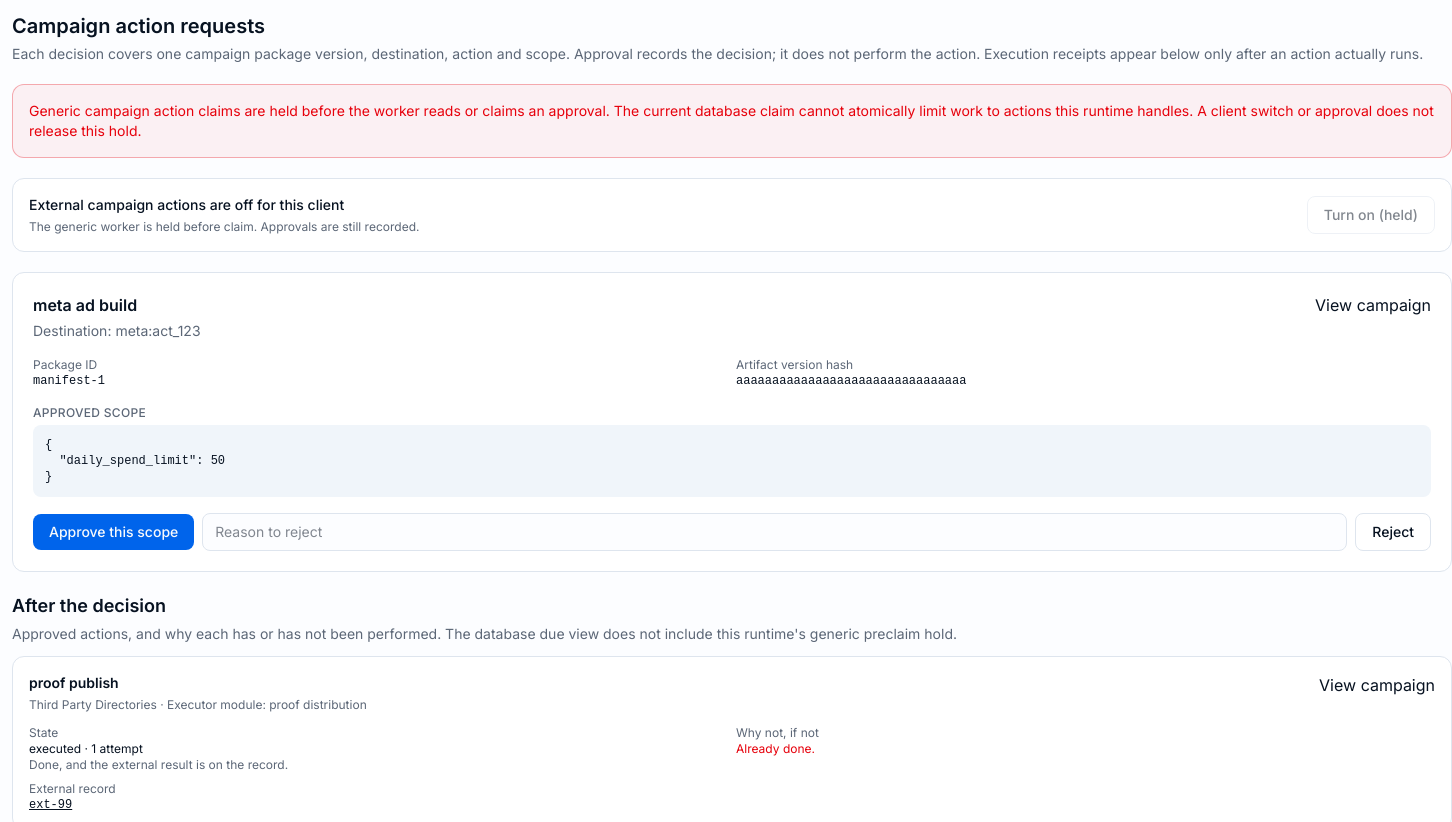
Test: shows the exact destination and scope before a human approves
Expected: the text "meta:act_123" is shown, top-left (115, 322), bottom-right (201, 339)
Expected: the text "{ \"daily_spend_limit\": 50 }" is shown, top-left (33, 425), bottom-right (1431, 497)
Click the button "Approve this scope": [114, 532] box top-left (33, 514), bottom-right (194, 550)
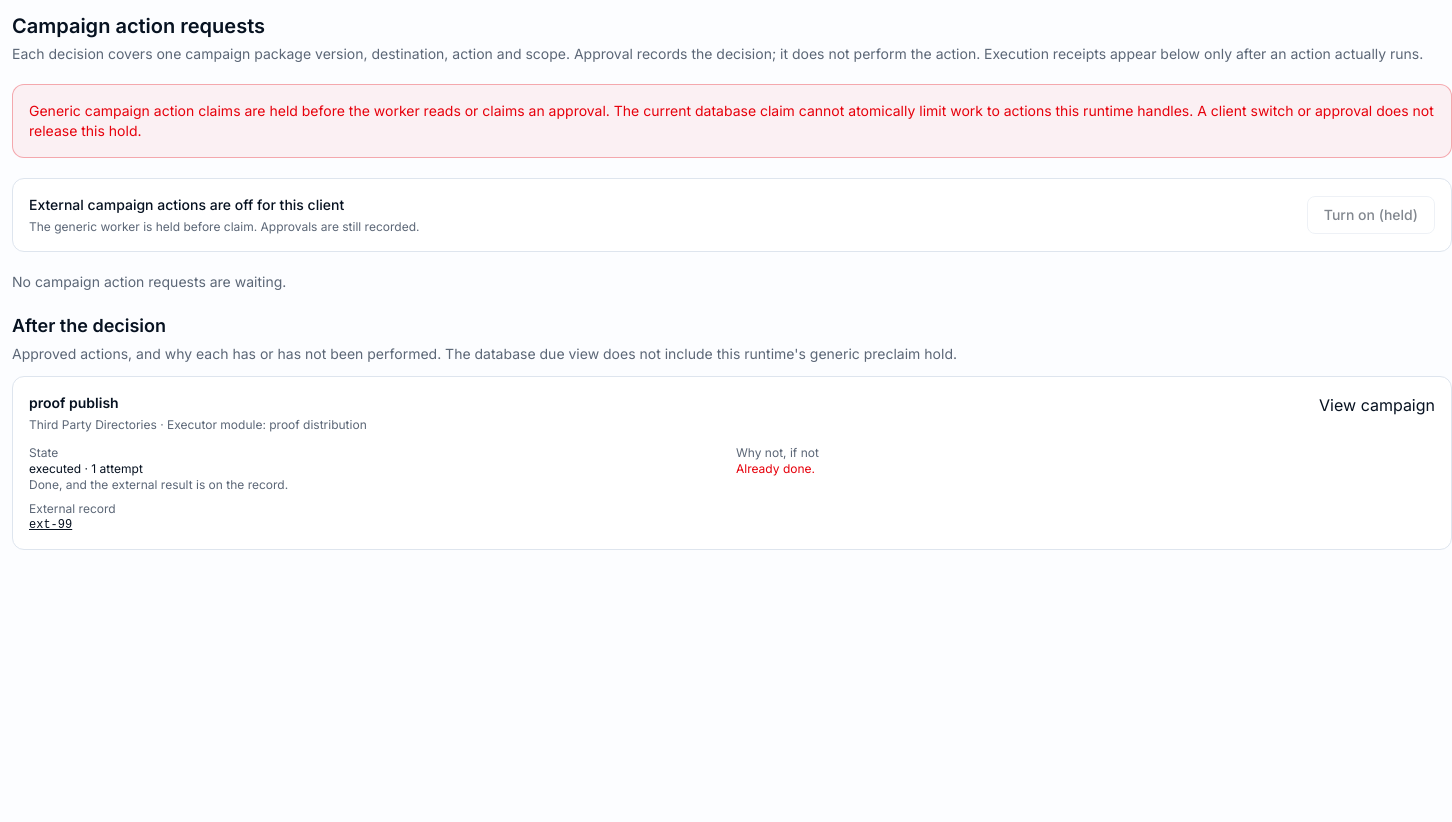
Result: the text "No campaign action requests are waiting." is shown at top-left (12, 273), bottom-right (286, 290)
